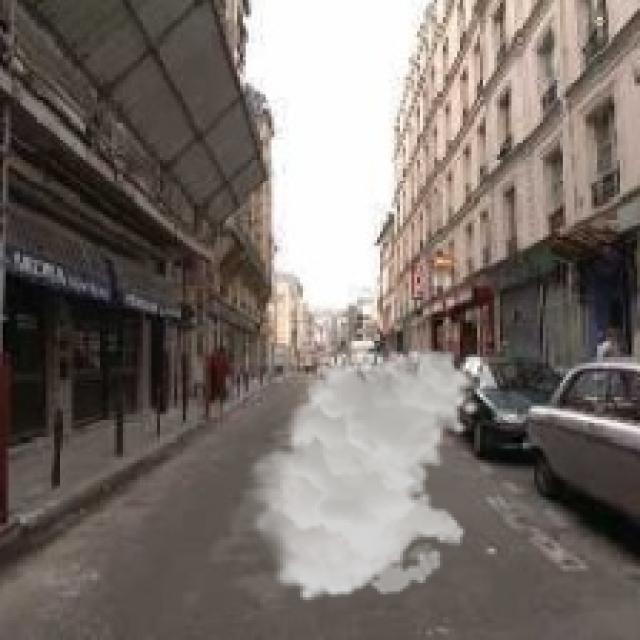smoke: (243, 348, 480, 603)
